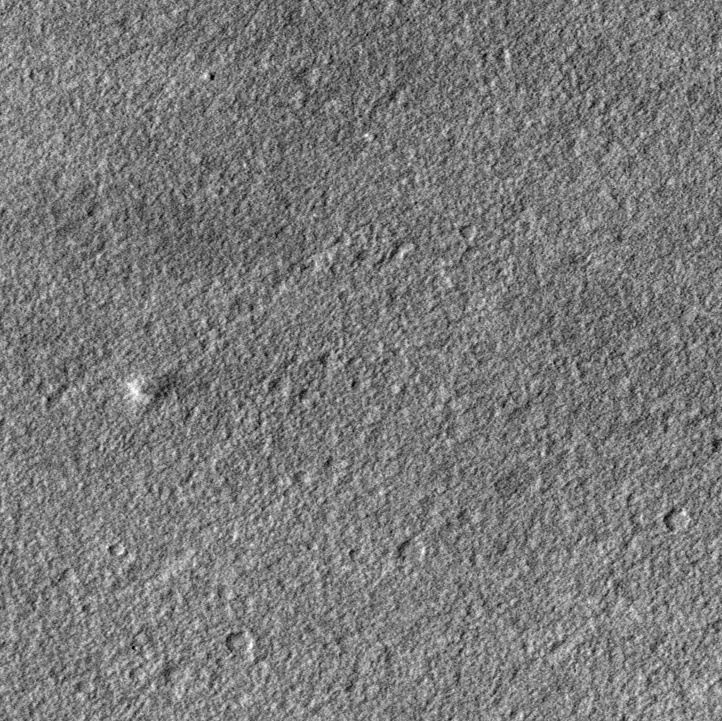dust_devil: (124, 367, 183, 408)
